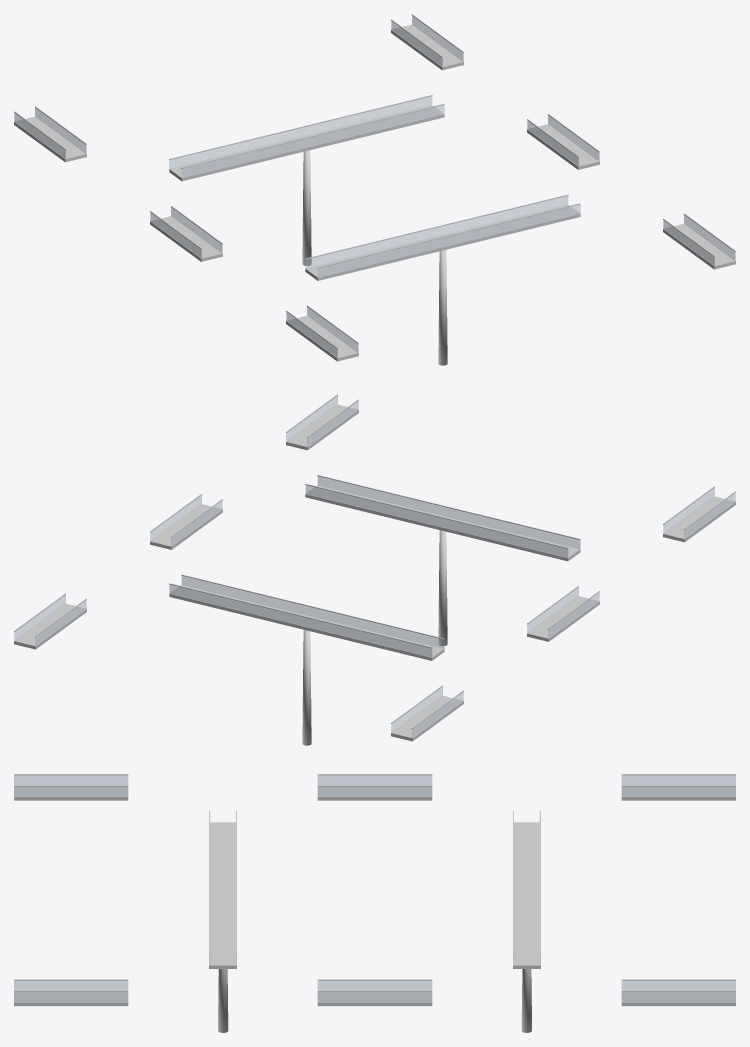
Rendered from passerelles.glb.
3 views of the same model, one above another, from view 1: azimuth 30°, elevation 25°; view 2: azimuth 150°, elevation 25°; view 3: azimuth 270°, elevation 25° (orthographic). The views are drawn at different scales.
Parts seen in each view (by area): view 1: Passerelle_Trav_S_tablier, Passerelle_Trav_N_tablier, Passerelle_Trav_S_verre-1, Passerelle_Trav_S_verre1, Passerelle_Trav_N_verre-1, Passerelle_Trav_N_verre1, Passerelle_G_S_tablier, Passerelle_D_N_tablier, Passerelle_G_C_tablier, Passerelle_D_S_tablier, Passerelle_D_C_tablier, Passerelle_G_N_tablier (+2 smaller); view 2: Passerelle_Trav_N_tablier, Passerelle_Trav_S_tablier, Passerelle_Trav_N_verre1, Passerelle_Trav_N_verre-1, Passerelle_Trav_S_verre-1, Passerelle_Trav_S_verre1, Passerelle_G_N_tablier, Passerelle_D_S_tablier, Passerelle_D_C_tablier, Passerelle_D_N_tablier, Passerelle_G_C_tablier, Passerelle_G_S_tablier (+2 smaller); view 3: Passerelle_Trav_S_tablier, Passerelle_Trav_N_tablier, Passerelle_G_C_tablier, Passerelle_G_S_tablier, Passerelle_G_N_tablier, Passerelle_D_C_tablier, Passerelle_D_S_tablier, Passerelle_D_N_tablier, Passerelle_D_C_verre1, Passerelle_G_C_verre1, Passerelle_D_C_verre-1, Passerelle_G_C_verre-1 (+10 smaller).
Boxes of the visible parts, left/top/right/bottom form: Passerelle_Trav_S_tablier: left=305, top=204, right=580, bottom=280; Passerelle_Trav_N_tablier: left=169, top=105, right=444, bottom=181; Passerelle_Trav_S_verre-1: left=317, top=204, right=580, bottom=277; Passerelle_Trav_S_verre1: left=305, top=196, right=568, bottom=268; Passerelle_Trav_N_verre-1: left=181, top=105, right=444, bottom=177; Passerelle_Trav_N_verre1: left=169, top=96, right=432, bottom=168; Passerelle_G_S_tablier: left=286, top=315, right=358, bottom=361; Passerelle_D_N_tablier: left=391, top=24, right=463, bottom=70; Passerelle_G_C_tablier: left=150, top=216, right=222, bottom=261; Passerelle_D_S_tablier: left=663, top=223, right=735, bottom=269; Passerelle_D_C_tablier: left=527, top=124, right=599, bottom=169; Passerelle_G_N_tablier: left=14, top=116, right=86, bottom=162; Passerelle_Trav_N_tablier: left=169, top=584, right=444, bottom=660; Passerelle_Trav_S_tablier: left=305, top=485, right=580, bottom=561; Passerelle_Trav_N_verre1: left=169, top=584, right=432, bottom=657; Passerelle_Trav_N_verre-1: left=181, top=576, right=444, bottom=648; Passerelle_Trav_S_verre-1: left=317, top=476, right=580, bottom=548; Passerelle_Trav_S_verre1: left=305, top=485, right=568, bottom=557; Passerelle_G_N_tablier: left=391, top=695, right=463, bottom=741; Passerelle_D_S_tablier: left=286, top=404, right=358, bottom=450; Passerelle_D_C_tablier: left=150, top=504, right=222, bottom=549; Passerelle_D_N_tablier: left=14, top=603, right=86, bottom=649; Passerelle_G_C_tablier: left=527, top=596, right=599, bottom=641; Passerelle_G_S_tablier: left=663, top=496, right=735, bottom=542; Passerelle_Trav_S_tablier: left=209, top=822, right=236, bottom=968; Passerelle_Trav_N_tablier: left=513, top=822, right=540, bottom=968; Passerelle_G_C_tablier: left=317, top=786, right=432, bottom=800; Passerelle_G_S_tablier: left=14, top=786, right=128, bottom=800; Passerelle_G_N_tablier: left=621, top=786, right=735, bottom=800; Passerelle_D_C_tablier: left=317, top=992, right=432, bottom=1005; Passerelle_D_S_tablier: left=14, top=992, right=128, bottom=1005; Passerelle_D_N_tablier: left=621, top=992, right=735, bottom=1005; Passerelle_D_C_verre1: left=317, top=992, right=432, bottom=1002; Passerelle_G_C_verre1: left=317, top=786, right=432, bottom=796; Passerelle_D_C_verre-1: left=317, top=980, right=432, bottom=990; Passerelle_G_C_verre-1: left=317, top=775, right=432, bottom=785.
Size of the model in its own units: 44 by 13.98 by 61.8.
